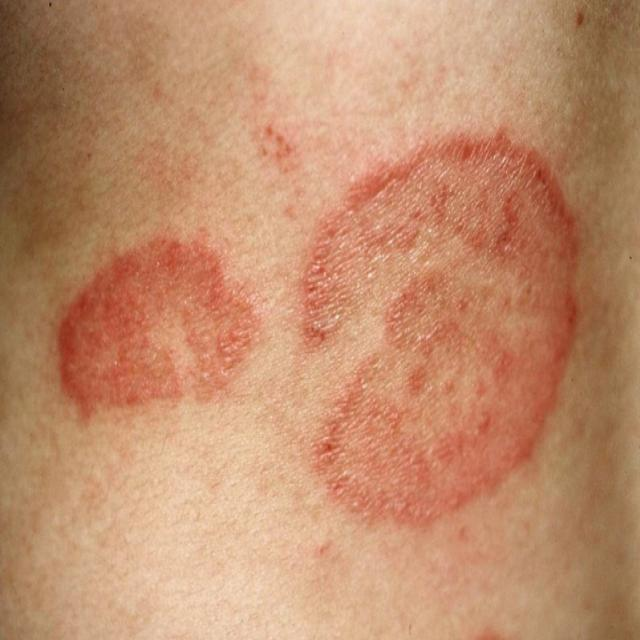Rosacea: (297, 129, 581, 529), (61, 231, 261, 418)
